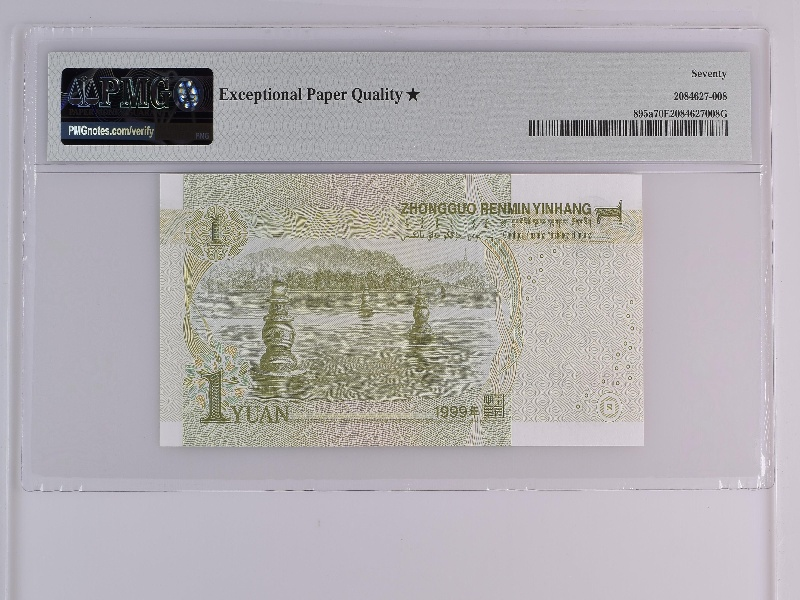papernote: (159, 170, 648, 448)
